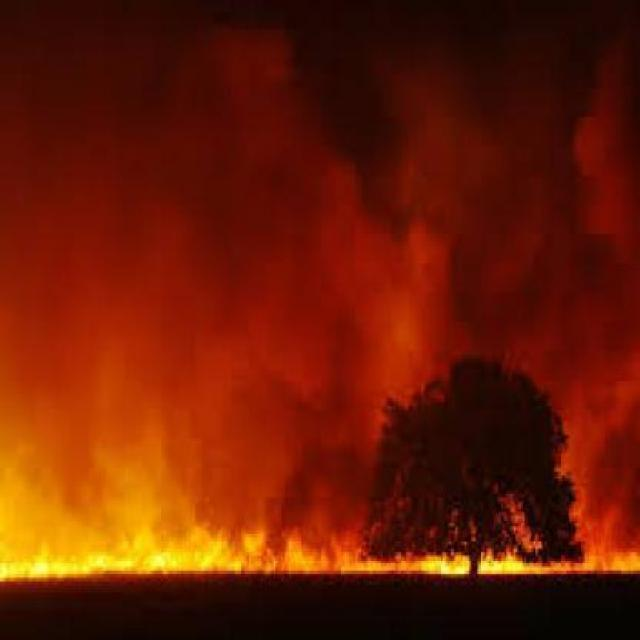Fire: (0, 470, 637, 632)
Smoke: (0, 0, 640, 510)
